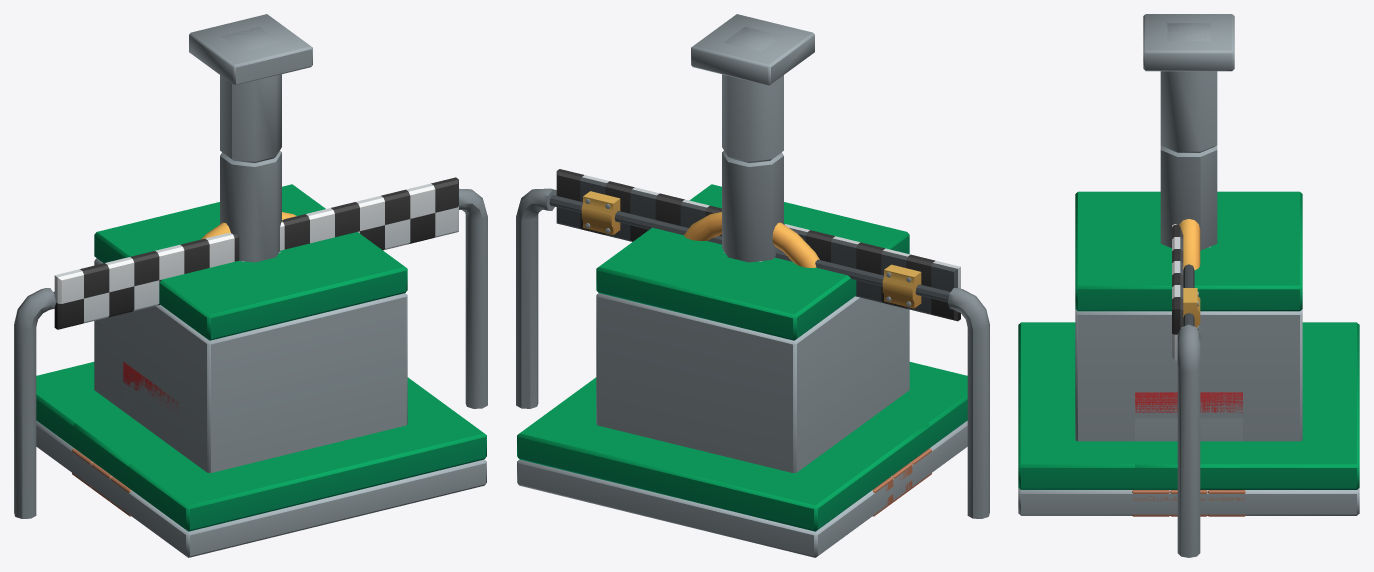
The model's file is kit.glb.
3 views of the same model, side by side, from view 1: azimuth 30°, elevation 25°; view 2: azimuth 150°, elevation 25°; view 3: azimuth 270°, elevation 25° (orthographic).
Parts seen in each view (by area): view 1: platform_4x4x4_green, platform_6x6x1_green, pillar_2x2x8, signage_finish_wide_board, signage_finish_wide, platform_6x2x1_green, pillar_1x1x8, platform_4x2x2_red; view 2: platform_4x4x4_green, platform_6x6x1_green, pillar_2x2x8, signage_finish_wide, signage_finish_wide_board, platform_6x2x1_green, hoop_yellow, pillar_1x1x8, floor_wood_2x6; view 3: platform_4x4x4_green, platform_6x6x1_green, pillar_2x2x8, platform_6x2x1_green, signage_finish_wide, platform_4x2x2_red, signage_finish_wide_board, floor_wood_2x6, hoop_yellow, pillar_1x1x8.
Boxes of the visible parts, <box> form: platform_4x4x4_green: <box>94,184,407,472</box>; platform_6x6x1_green: <box>36,362,486,557</box>; pillar_2x2x8: <box>189,14,312,262</box>; signage_finish_wide_board: <box>54,177,458,329</box>; signage_finish_wide: <box>14,188,487,518</box>; platform_6x2x1_green: <box>73,411,134,487</box>; pillar_1x1x8: <box>221,27,280,51</box>; platform_4x2x2_red: <box>123,361,178,419</box>; platform_4x4x4_green: <box>596,184,909,472</box>; platform_6x6x1_green: <box>517,362,967,557</box>; pillar_2x2x8: <box>691,14,814,262</box>; signage_finish_wide: <box>516,188,989,518</box>; signage_finish_wide_board: <box>556,169,960,321</box>; platform_6x2x1_green: <box>578,377,929,479</box>; hoop_yellow: <box>684,212,819,267</box>; pillar_1x1x8: <box>723,27,782,51</box>; floor_wood_2x6: <box>872,448,931,516</box>; platform_4x4x4_green: <box>1075,191,1302,441</box>; platform_6x6x1_green: <box>1018,322,1359,515</box>; pillar_2x2x8: <box>1143,14,1234,250</box>; platform_6x2x1_green: <box>1135,441,1242,514</box>; signage_finish_wide: <box>1177,264,1200,557</box>; platform_4x2x2_red: <box>1135,392,1242,441</box>; signage_finish_wide_board: <box>1172,224,1200,360</box>; floor_wood_2x6: <box>1132,490,1245,516</box>; hoop_yellow: <box>1179,219,1200,269</box>; pillar_1x1x8: <box>1167,23,1210,41</box>.
Bounding box in the file's own units: 9.4 × 8.5 × 6.
1 material, 1 textured.
